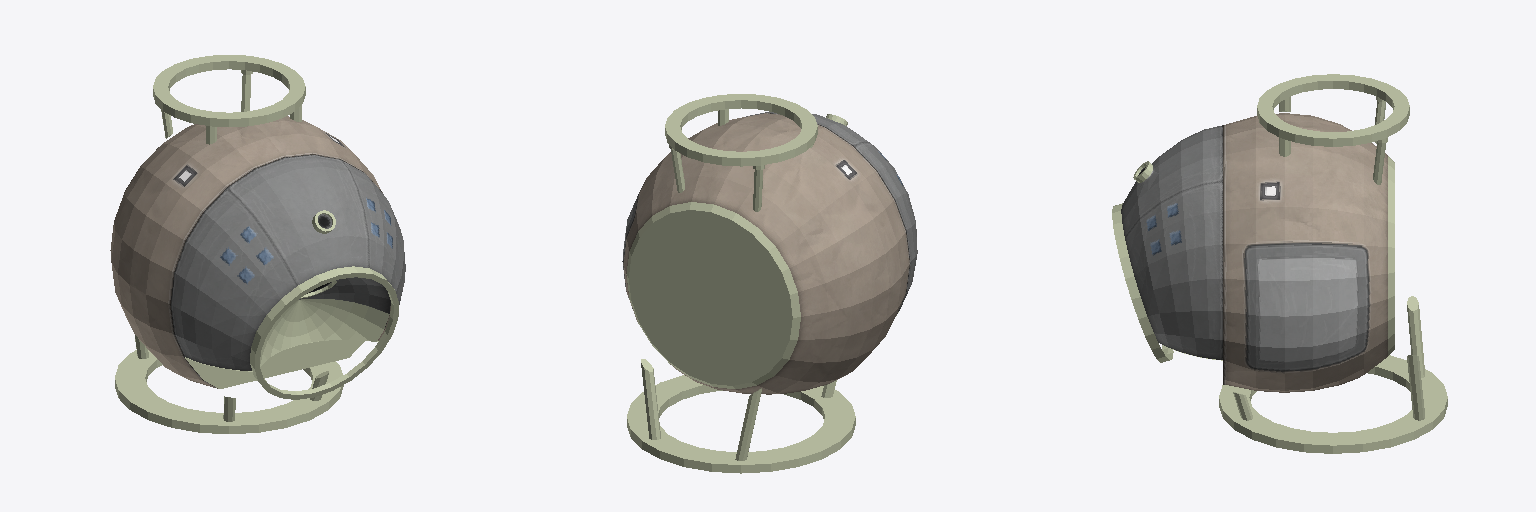
The picture shows the model from 3 angles: view 1: azimuth 30°, elevation 25°; view 2: azimuth 150°, elevation 25°; view 3: azimuth 270°, elevation 25°; orthographic projection.
Parts seen in each view (by area): view 1: liba_crew_s0p5_1_interior, libra_crew_s0p5_1_interior_mask; view 2: libra_crew_s0p5_1_interior_mask, liba_crew_s0p5_1_interior; view 3: liba_crew_s0p5_1_interior, libra_crew_s0p5_1_interior_mask.
Boxes of the visible parts, x1,y1,x2,y2 form: liba_crew_s0p5_1_interior: [110, 116, 405, 388]; libra_crew_s0p5_1_interior_mask: [115, 55, 398, 433]; libra_crew_s0p5_1_interior_mask: [626, 94, 898, 473]; liba_crew_s0p5_1_interior: [622, 112, 917, 394]; liba_crew_s0p5_1_interior: [1121, 113, 1387, 392]; libra_crew_s0p5_1_interior_mask: [1112, 74, 1447, 453].
Bounding box in the file's own units: 1.17 × 1.35 × 1.37.
Materials: 3 (1 with a texture image).